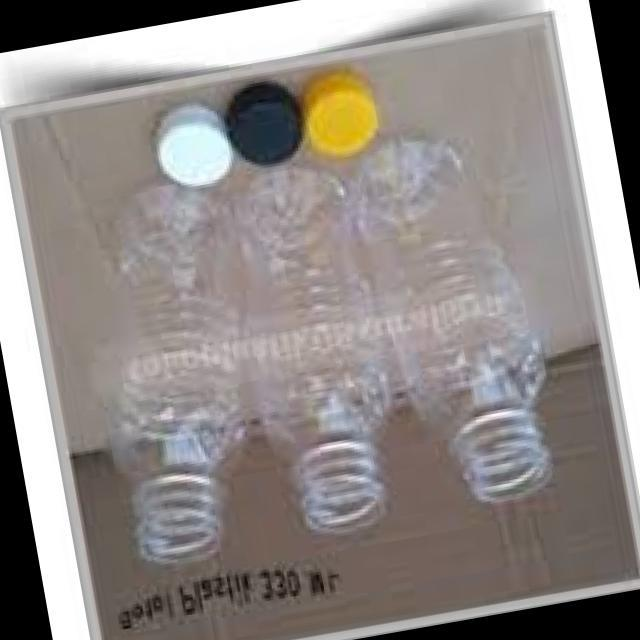good: (54, 183, 288, 572), (364, 120, 558, 520), (232, 164, 424, 538)
